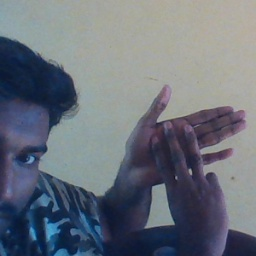M: (116, 83, 248, 227)
